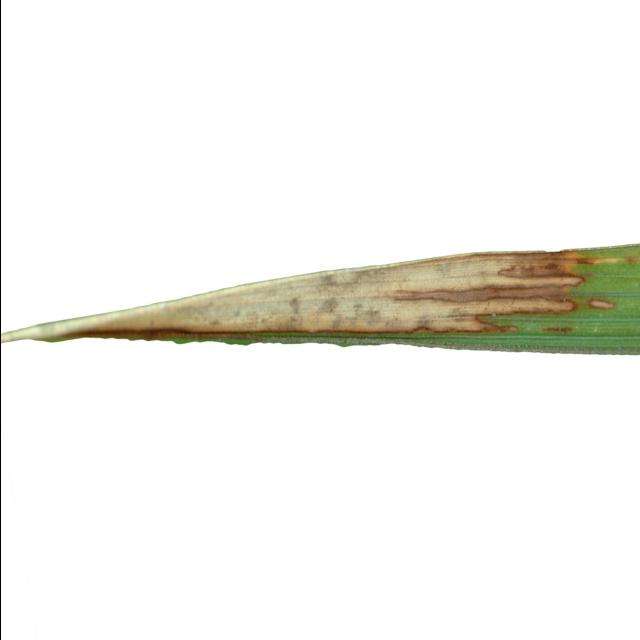Leaf scald: (0, 104, 640, 473)
